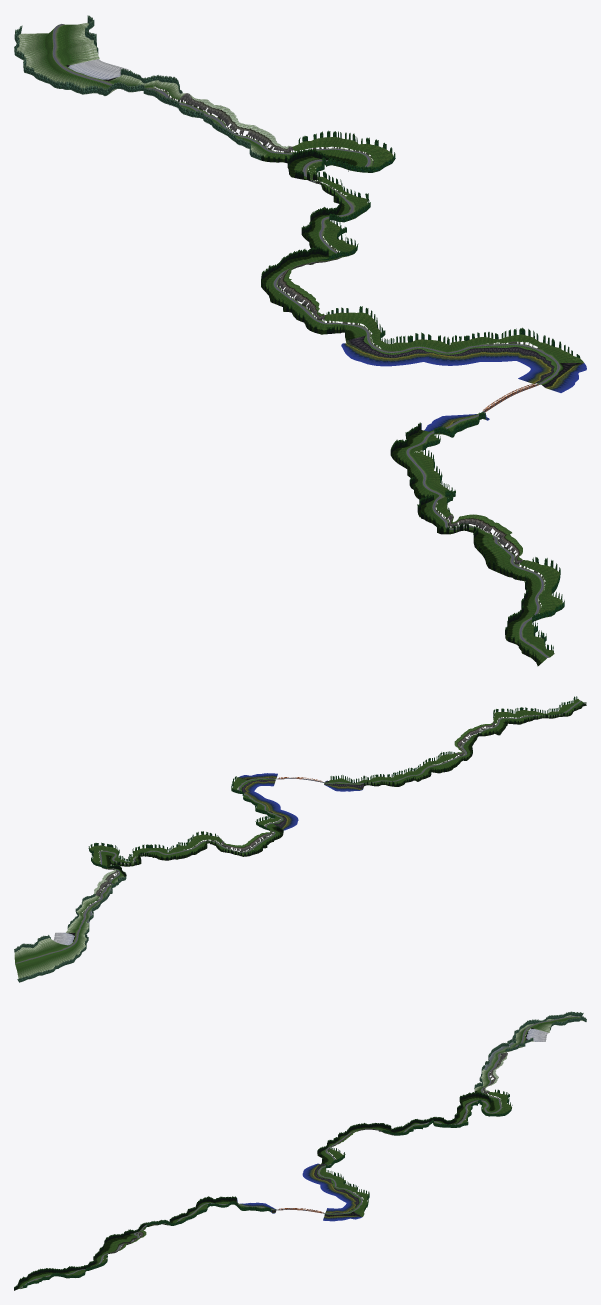
File: course-al2.glb
3 renders of one model, top to bottom at view 1: azimuth 30°, elevation 25°; view 2: azimuth 150°, elevation 25°; view 3: azimuth 330°, elevation 25°, orthographic. The views are drawn at different scales.
Parts seen in each view (by area): view 1: course-al2; view 2: course-al2; view 3: course-al2.
Boxes of the visible parts, left/top/right/bottom form: course-al2: left=14, top=15, right=586, bottom=666; course-al2: left=14, top=696, right=586, bottom=982; course-al2: left=14, top=1011, right=586, bottom=1290.
Size of the model in its own units: 2821 by 374 by 9902.
82 materials, 82 textured.
